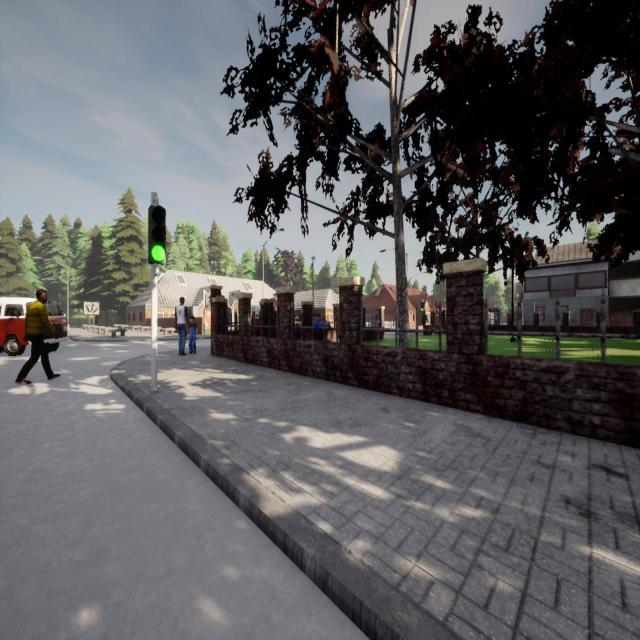Pedestrian: (15, 290, 60, 384), (174, 296, 188, 354), (188, 315, 198, 356)
Traffic_Signs: (270, 297, 276, 310)
Vehicle: (0, 298, 67, 356), (312, 316, 331, 328)
traffic_light: (148, 204, 167, 265), (421, 302, 424, 313), (205, 294, 207, 307)
